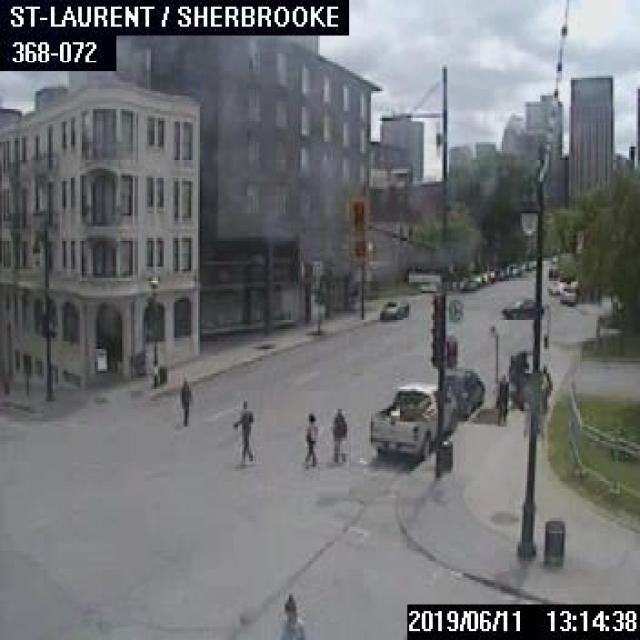pedestrian: (229, 398, 253, 460), (276, 593, 309, 638), (329, 404, 347, 466), (302, 411, 318, 467), (175, 373, 189, 427), (538, 365, 553, 411), (494, 384, 506, 422), (498, 371, 507, 402)
vehicle: (368, 381, 455, 458), (438, 366, 484, 416), (500, 296, 542, 318), (380, 298, 407, 320), (557, 277, 578, 304), (456, 274, 477, 291), (466, 264, 480, 282), (480, 264, 487, 282), (487, 265, 493, 281)
